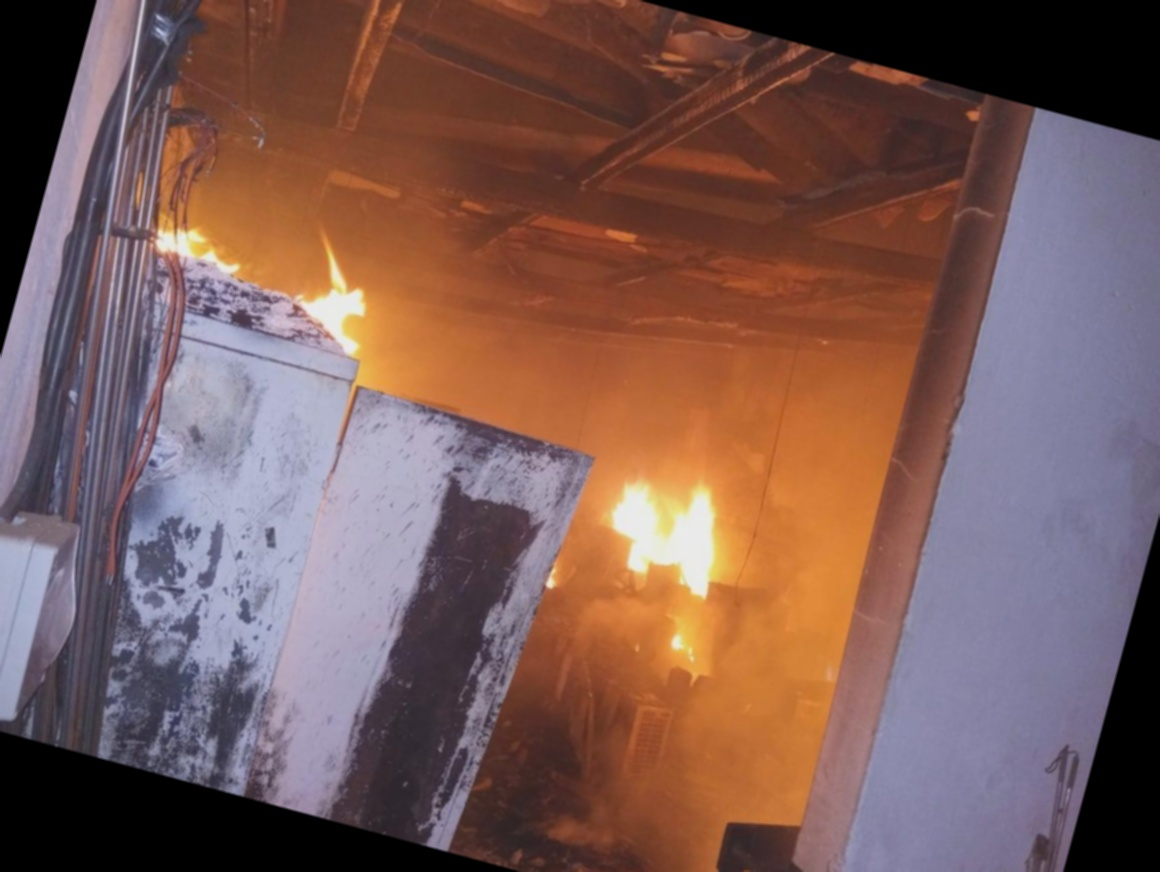fire: (129, 157, 473, 384), (557, 397, 783, 667)
